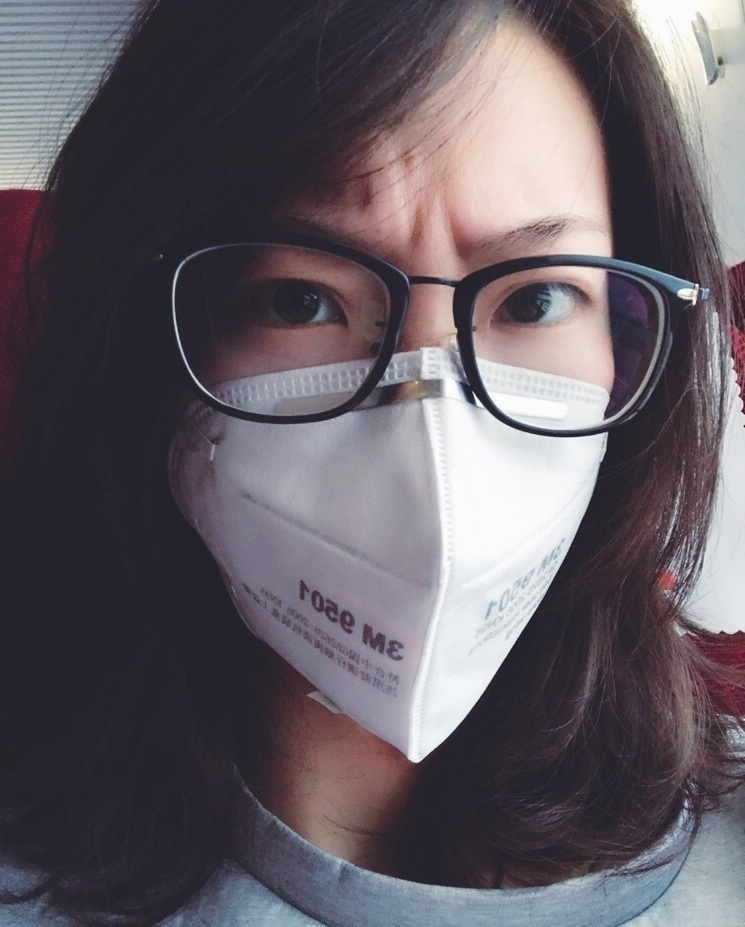face_mask: (185, 40, 618, 733)
